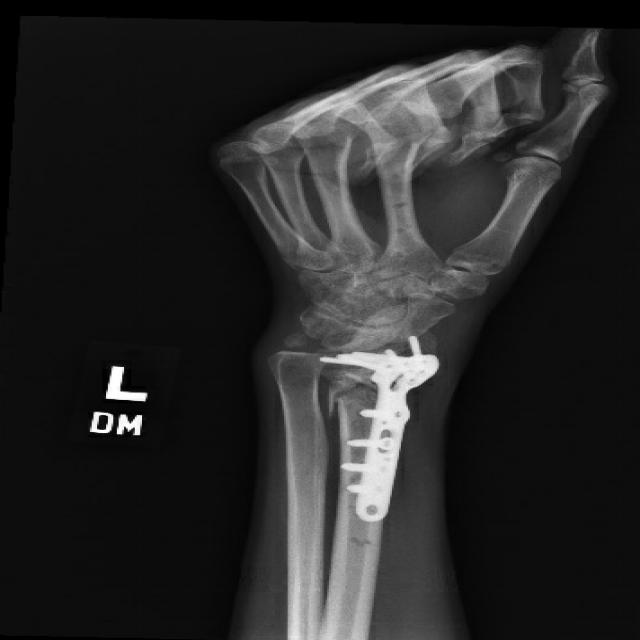x-ray: (311, 326, 451, 534)
